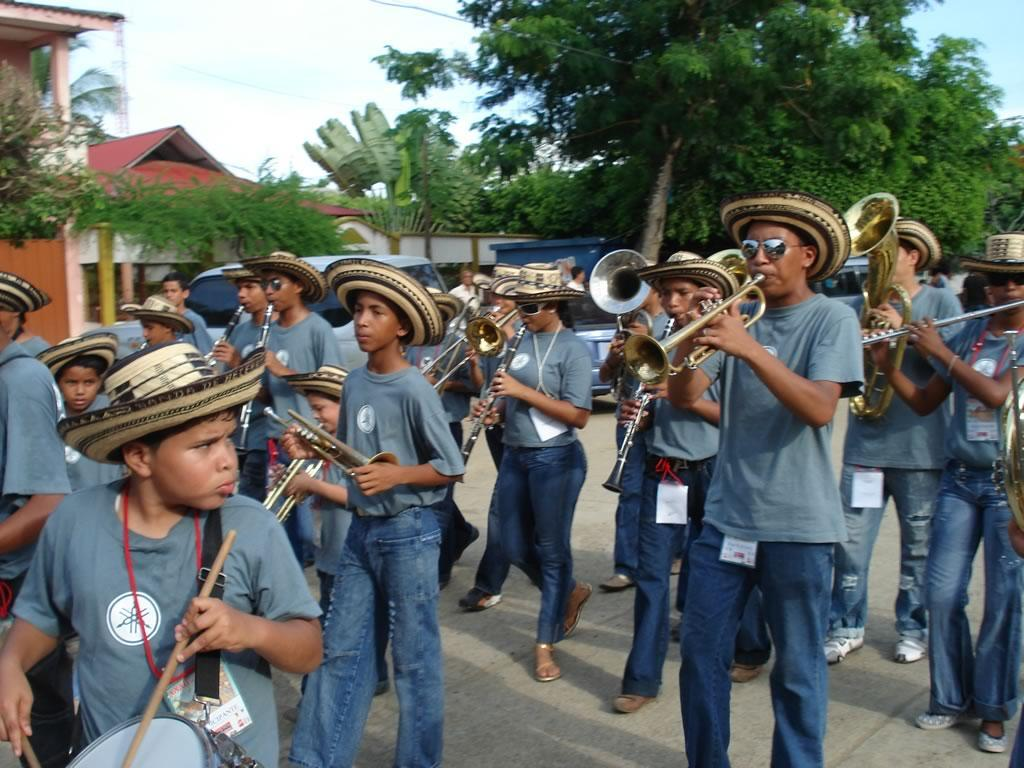face: (150, 405, 239, 510), (745, 227, 802, 299), (354, 294, 395, 352), (60, 365, 99, 411), (987, 270, 1024, 316), (663, 282, 700, 327), (309, 395, 343, 435), (883, 242, 913, 285), (262, 276, 297, 312), (518, 301, 554, 335), (237, 279, 266, 313), (141, 319, 165, 348), (491, 290, 515, 313), (162, 283, 183, 305), (462, 274, 472, 285)
